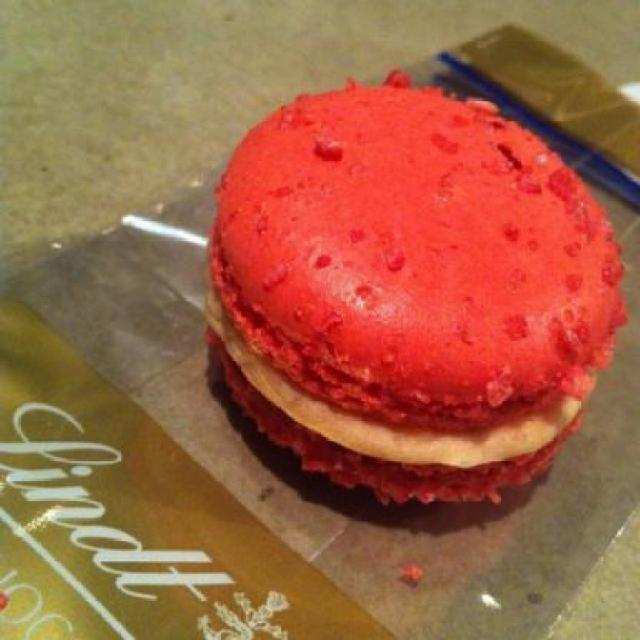Macaron: (200, 80, 631, 566)
